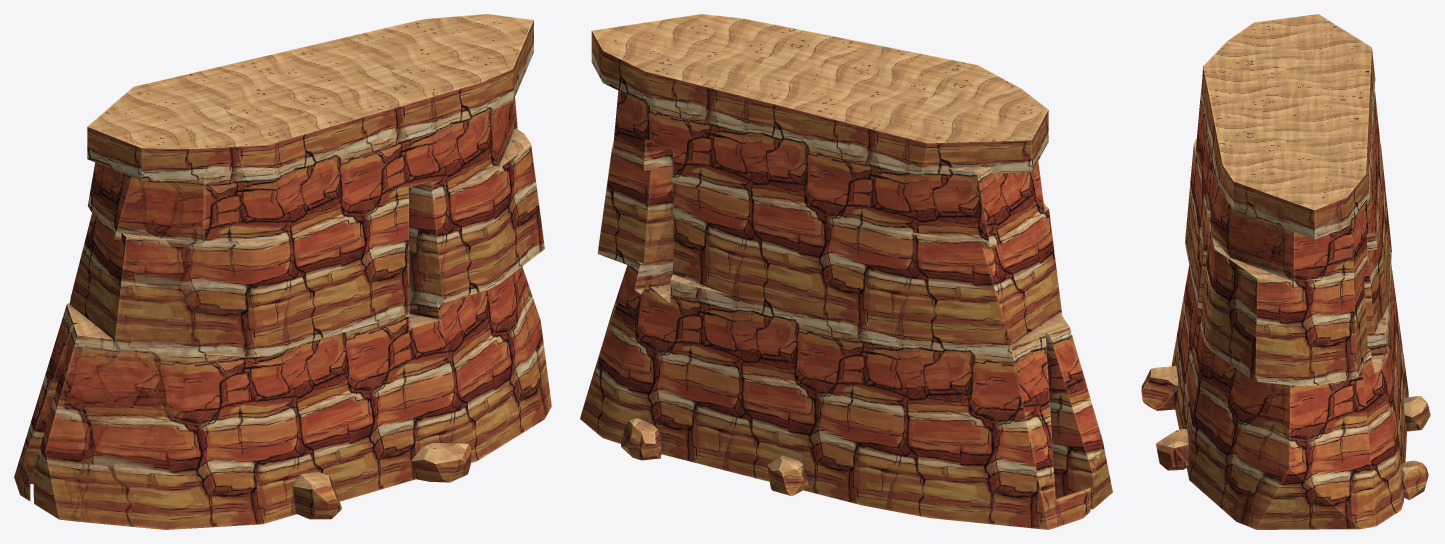
Rendered from cliff_block_01.glb.
3 views of the same model, side by side, from view 1: azimuth 30°, elevation 25°; view 2: azimuth 150°, elevation 25°; view 3: azimuth 270°, elevation 25° (orthographic). The views are drawn at different scales.
Parts seen in each view (by area): view 1: cliff_block_01; view 2: cliff_block_01; view 3: cliff_block_01.
Part boxes in pixels (x1=…): cliff_block_01: x1=14, y1=14, x2=551, y2=529; cliff_block_01: x1=580, y1=14, x2=1112, y2=529; cliff_block_01: x1=1141, y1=14, x2=1430, y2=529.
Bounding box in the file's own units: 6.15 × 4.2 × 3.38.
Materials: 1 (1 with a texture image).
